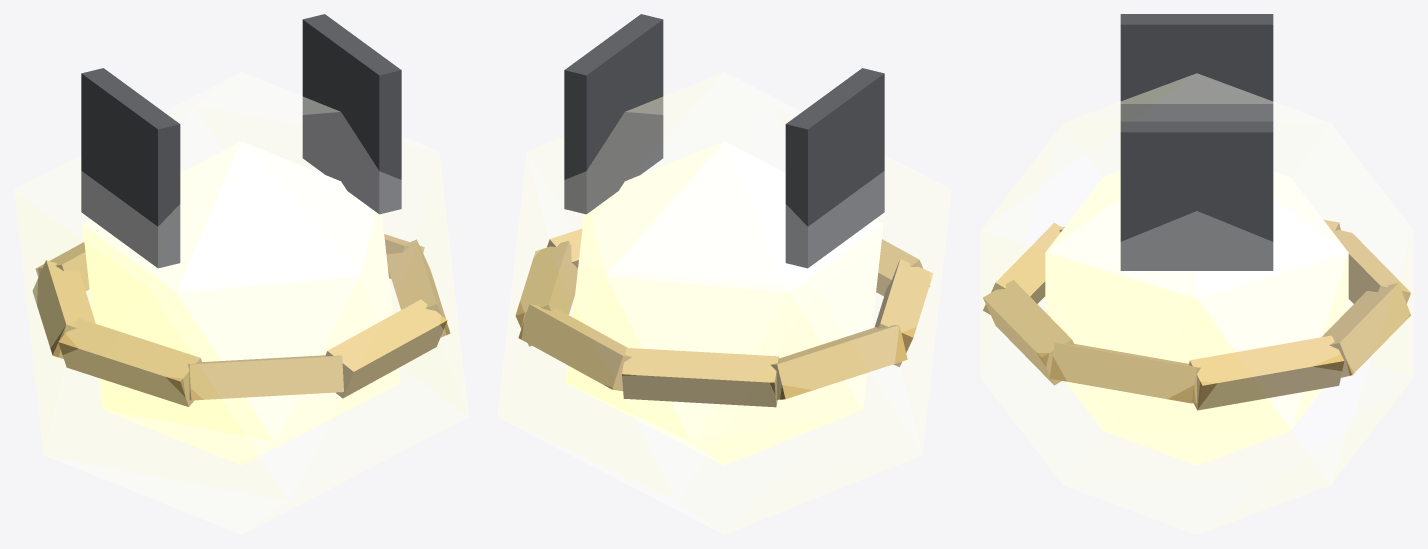
File: Proj_AegisBomb.fbx
3 views of the same model, side by side, from view 1: azimuth 30°, elevation 25°; view 2: azimuth 150°, elevation 25°; view 3: azimuth 270°, elevation 25° (orthographic).
Parts seen in each view (by area): view 1: PBM_Glow, PBM_Core, PBM_Band, PBM_Fin-1, PBM_Fin1; view 2: PBM_Glow, PBM_Core, PBM_Band, PBM_Fin-1, PBM_Fin1; view 3: PBM_Glow, PBM_Core, PBM_Band, PBM_Fin1, PBM_Fin-1.
Boxes of the visible parts, bbox=[...] form: PBM_Glow: bbox=[14, 72, 468, 534]; PBM_Core: bbox=[82, 141, 400, 465]; PBM_Band: bbox=[32, 234, 450, 406]; PBM_Fin-1: bbox=[81, 68, 180, 268]; PBM_Fin1: bbox=[302, 14, 401, 214]; PBM_Glow: bbox=[497, 72, 951, 534]; PBM_Core: bbox=[565, 141, 883, 465]; PBM_Band: bbox=[515, 228, 933, 407]; PBM_Fin-1: bbox=[785, 68, 884, 268]; PBM_Fin1: bbox=[564, 14, 663, 214]; PBM_Glow: bbox=[980, 73, 1413, 534]; PBM_Core: bbox=[1045, 171, 1348, 465]; PBM_Band: bbox=[983, 219, 1410, 410]; PBM_Fin1: bbox=[1120, 121, 1273, 270]; PBM_Fin-1: bbox=[1120, 14, 1273, 121].
Bounding box in the file's own units: 0.1789 × 0.2 × 0.1701.
